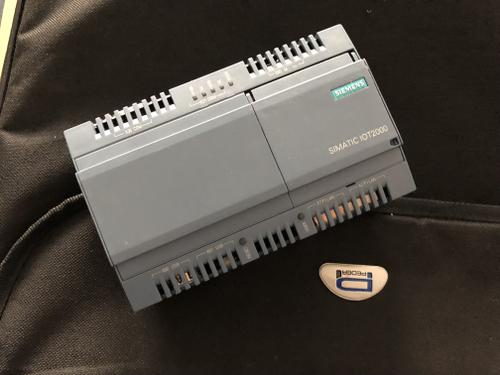device: (64, 24, 417, 313)
